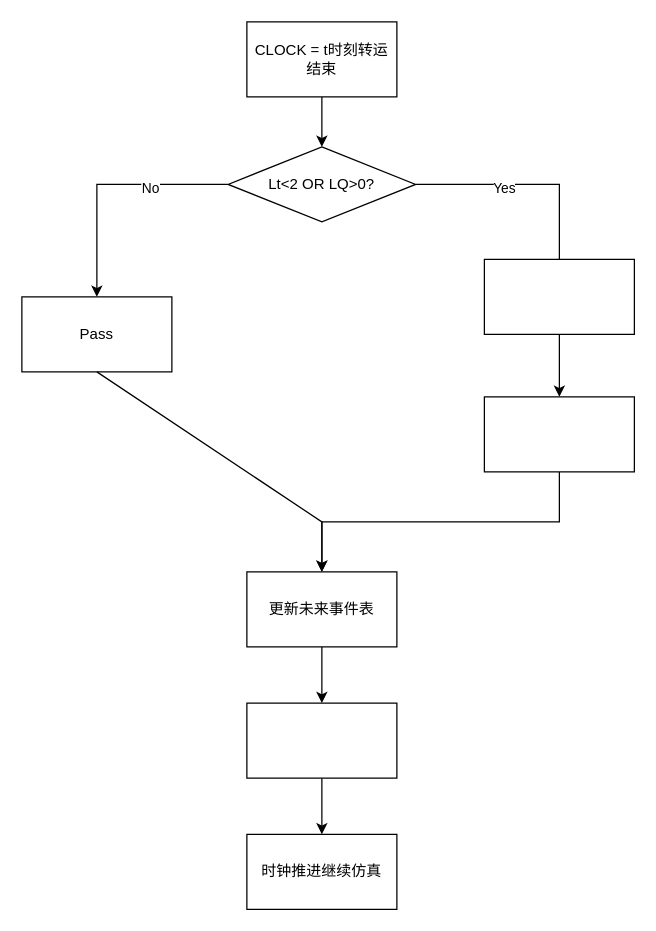
Image size: 656x931. Some labels were removed from this diagram. The shapes that lost their labels are listed below. From the top down, each one's centre as x and y in pixels, then its label:
the point at 558,296: LQ--; Lt++;
the point at 558,434: 生成服务时间t*，在t+t*时刻开始装载
the point at 321,740: 更新统计量
